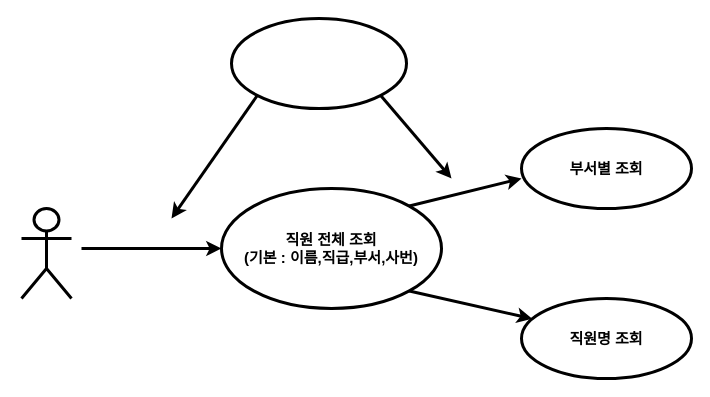
Image size: 710x397. Some labels were removed from this diagram. The centre of each missing label's shape, as x and y in pixels:
인사 담당자: point (46, 253)
조회 항목 추가/삭제: point (319, 63)
